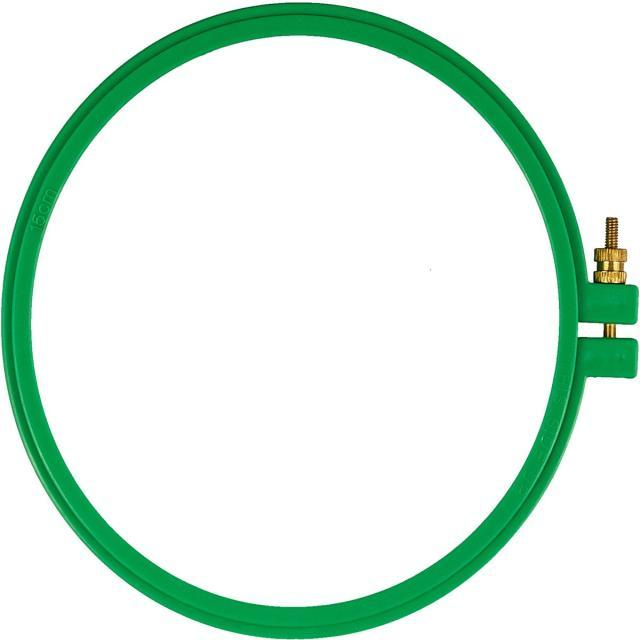Circle: (2, 2, 590, 639)
